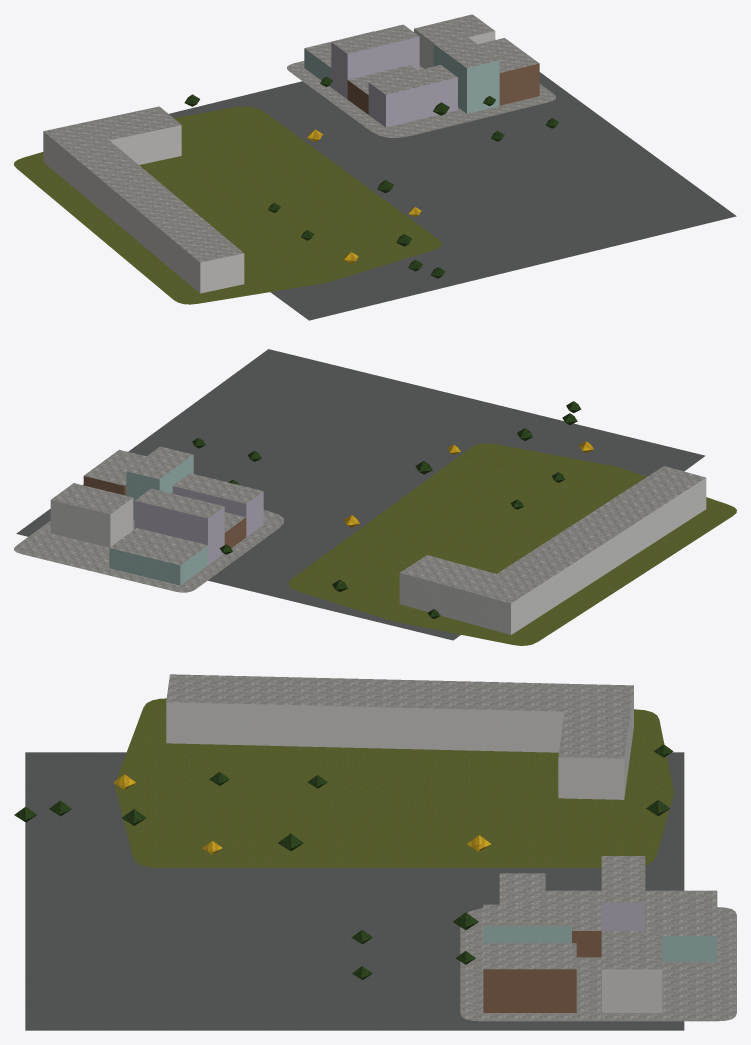
The model's file is cidade_S02_05_lod.gltf.
The picture shows the model from 3 angles, top to bottom: view 1: azimuth 30°, elevation 25°; view 2: azimuth 150°, elevation 25°; view 3: azimuth 270°, elevation 25°; orthographic projection. The views are drawn at different scales.
Parts seen in each view (by area): view 1: S02_05_Chao_LOD2, S02_05_Edificios_LOD1, S02_05_Vegetacao_LOD2; view 2: S02_05_Chao_LOD2, S02_05_Edificios_LOD1, S02_05_Vegetacao_LOD2; view 3: S02_05_Chao_LOD2, S02_05_Edificios_LOD1, S02_05_Vegetacao_LOD2.
Part boxes in pixels (x1,y1,x2,y2): S02_05_Chao_LOD2: [14, 39, 736, 320]; S02_05_Edificios_LOD1: [43, 14, 539, 293]; S02_05_Vegetacao_LOD2: [184, 76, 558, 278]; S02_05_Chao_LOD2: [14, 349, 736, 645]; S02_05_Edificios_LOD1: [50, 446, 706, 634]; S02_05_Vegetacao_LOD2: [192, 401, 594, 618]; S02_05_Chao_LOD2: [25, 698, 736, 1030]; S02_05_Edificios_LOD1: [166, 674, 717, 1012]; S02_05_Vegetacao_LOD2: [14, 744, 673, 979].
Size of the model in its own units: 119 by 10.37 by 110.
9 materials, 9 textured.
